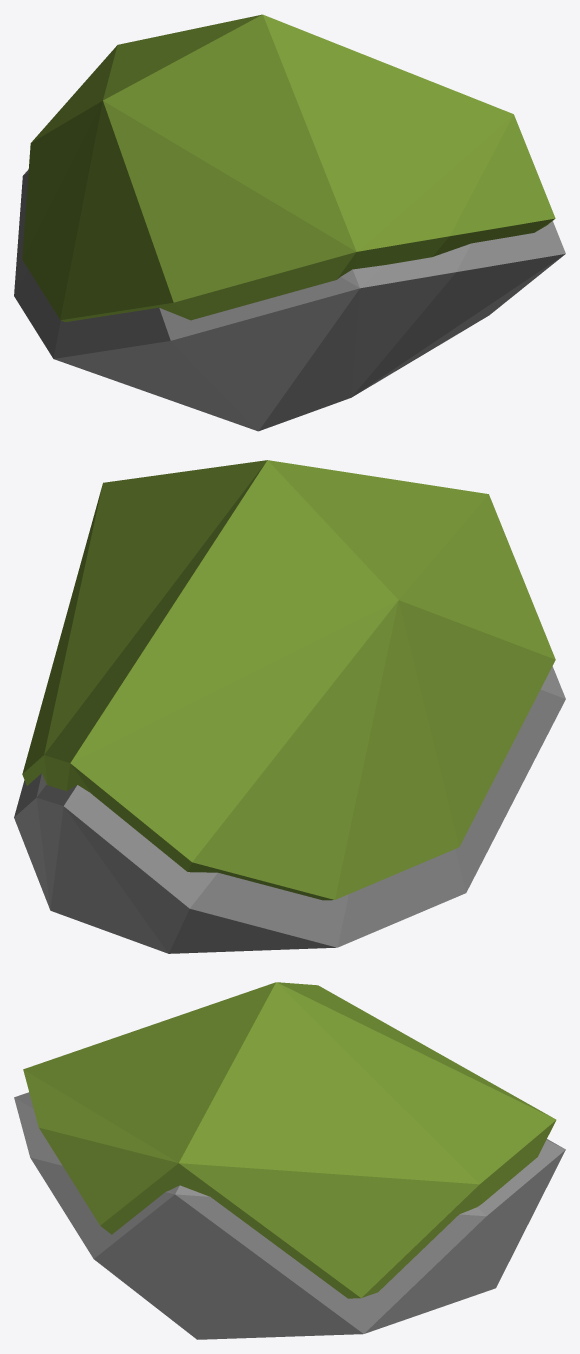
The model's file is stone_moss.gltf.
3 renders of one model, top to bottom at view 1: azimuth 30°, elevation 25°; view 2: azimuth 150°, elevation 25°; view 3: azimuth 270°, elevation 25°, orthographic. The views are drawn at different scales.
Parts seen in each view (by area): view 1: Stone_2_moss_mat; view 2: Stone_2_moss_mat; view 3: Stone_2_moss_mat.
Boxes of the visible parts, <box> form: Stone_2_moss_mat: <box>14,14,565,431</box>; Stone_2_moss_mat: <box>14,460,565,953</box>; Stone_2_moss_mat: <box>14,982,565,1339</box>.
Size of the model in its own units: 1.09 by 0.8292 by 1.49.
